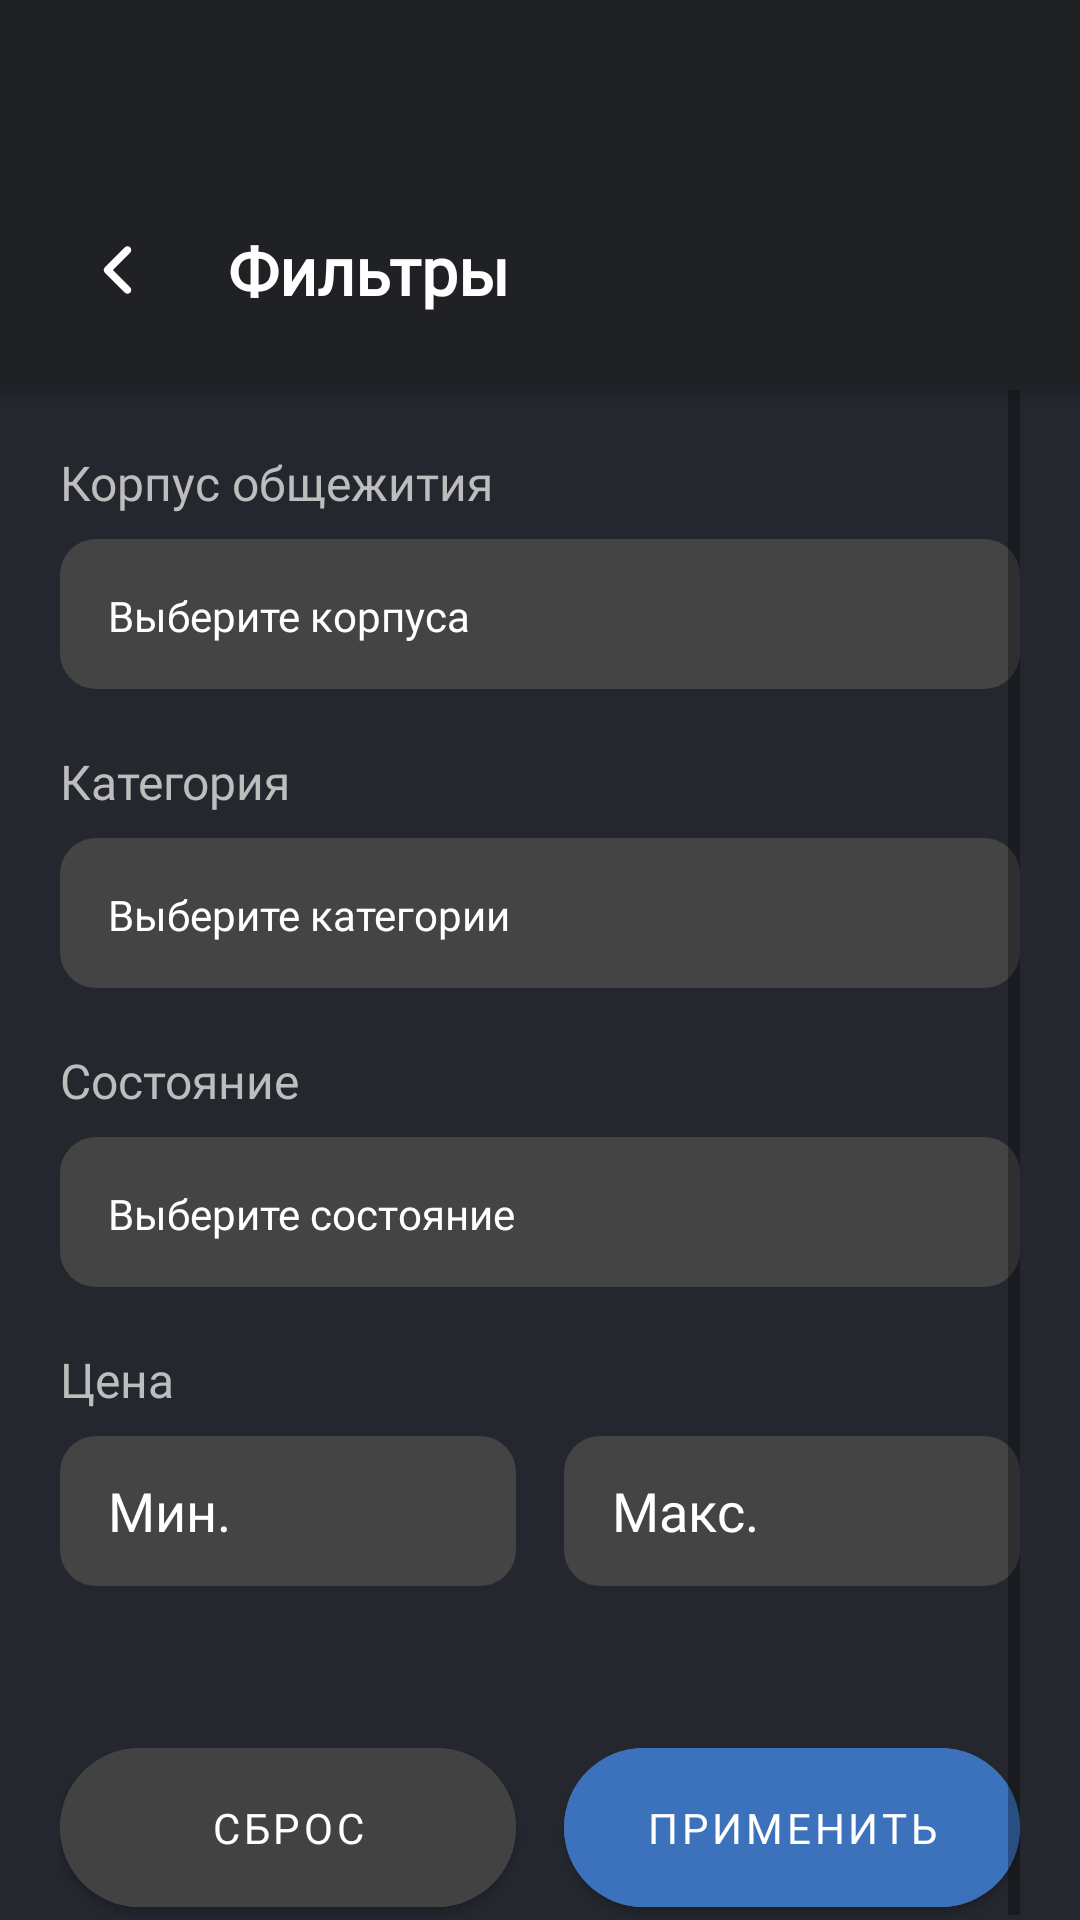

Named icons in this screenshot (1080 × 1920) and their centers, [x,y]:
Назад: [117,270]
